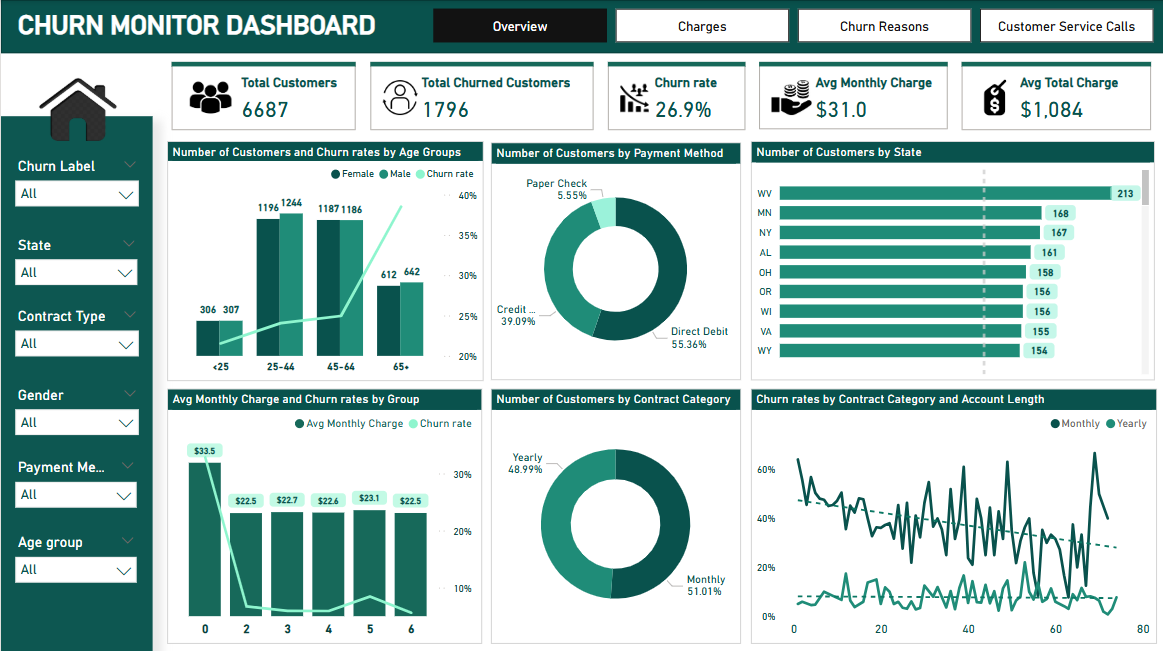

The dashboard page shown, as its layout file describes it:
{"tool":"powerbi","page":{"name":"Age, Payment & Contract","canvas":[1280,720],"ordinal":1},"visuals":[{"type":"shape","box":[0,125.7,165.7,592.9],"z":0},{"type":"textbox","box":[13.5,13.5,258,37.9],"z":1000},{"type":"image","box":[32.3,61.5,103.1,107.7],"z":2000},{"type":"slicer","fields":{"Values":["Databel - Data.Contract Type"]},"box":[5.8,183.2,155.8,85.1],"z":3000},{"type":"slicer","fields":{"Values":["Databel - Data.Gender"]},"box":[4.3,266.9,155.8,76.5],"z":4000},{"type":"slicer","fields":{"Values":["Databel - Data.State"]},"box":[4.3,341.9,154.4,77.9],"z":5000},{"type":"actionButton","box":[13,679.5,47.6,40.4],"z":6000},{"type":"actionButton","box":[60.6,679.5,51.9,40.4],"z":7000},{"type":"lineClusteredColumnComboChart","title":"Number of Customers and Churn rate by Age Groups","fields":{"Category":["Databel - Data.Age (bins)"],"Y2":["_Measures.Churn rate"],"Y":["_Measures.Number of Customers"]},"box":[181,126,507.5,280],"z":8000},{"type":"lineClusteredColumnComboChart","title":"Avg Monthly Charge and Churn rate by Number of Customers in Group","fields":{"Y":["Avg(Databel - Data.Monthly Charge)"],"Category":["Databel - Data.Number of Customers in Group"],"Y2":["_Measures.Churn rate"]},"box":[181,419.4,507.5,280],"z":9000},{"type":"slicer","fields":{"Values":["Databel - Data.Account Length (in months)"]},"box":[1048,9.8,217.7,97.8],"z":10000},{"type":"pieChart","fields":{"Category":["Databel - Data.Payment Method"],"Y":["_Measures.Number of Customers"]},"box":[699.7,127,565.6,277],"z":11000},{"type":"slicer","fields":{"Values":["Databel - Data.Payment Method"]},"box":[5.8,419.8,152.9,80.8],"z":12000},{"type":"lineChart","fields":{"Y":["_Measures.Churn rate"],"Category":["Databel - Data.Account Length (in months)"],"Series":["Databel - Data.Contract Category"]},"box":[699.7,419.8,565.6,279.9],"z":13000},{"type":"card","fields":{"Values":["_Measures.Number of Customers"]},"box":[282.5,13.5,157.7,94.2],"z":14000},{"type":"card","fields":{"Values":["_Measures.Number of churned customers"]},"box":[454.9,14.7,214,92.9],"z":15000},{"type":"card","fields":{"Values":["_Measures.Churn rate"]},"box":[683.6,13.5,140.6,94.2],"z":16000},{"type":"card","fields":{"Values":["Avg(Databel - Data.Monthly Charge)"]},"box":[838.9,12.2,194.4,95.4],"z":17000},{"type":"slicer","fields":{"Values":["Databel - Data.Age (bins)"]},"box":[5.8,493.4,152.9,72.1],"z":17001}]}

Visuals, with their boxes in screenshot pixels (x1, y1, x2, y2), scaled from the page's 1280x720 canvas onto the 1163x651 screenshot:
shape: [x1=0, y1=114, x2=151, y2=650]
textbox: [x1=12, y1=12, x2=247, y2=46]
image: [x1=29, y1=56, x2=123, y2=153]
slicer - Databel - Data.Contract Type: [x1=5, y1=166, x2=147, y2=243]
slicer - Databel - Data.Gender: [x1=4, y1=241, x2=145, y2=310]
slicer - Databel - Data.State: [x1=4, y1=309, x2=144, y2=380]
actionButton: [x1=12, y1=614, x2=55, y2=650]
actionButton: [x1=55, y1=614, x2=102, y2=650]
"Number of Customers and Churn rate by Age Groups" lineClusteredColumnComboChart: [x1=164, y1=114, x2=626, y2=367]
"Avg Monthly Charge and Churn rate by Number of Customers in Group" lineClusteredColumnComboChart: [x1=164, y1=379, x2=626, y2=632]
slicer - Databel - Data.Account Length (in months): [x1=952, y1=9, x2=1150, y2=97]
pieChart - Databel - Data.Payment Method x _Measures.Number of Customers: [x1=636, y1=115, x2=1150, y2=365]
slicer - Databel - Data.Payment Method: [x1=5, y1=380, x2=144, y2=453]
lineChart - _Measures.Churn rate x Databel - Data.Account Length (in months): [x1=636, y1=380, x2=1150, y2=633]
card - _Measures.Number of Customers: [x1=257, y1=12, x2=400, y2=97]
card - _Measures.Number of churned customers: [x1=413, y1=13, x2=608, y2=97]
card - _Measures.Churn rate: [x1=621, y1=12, x2=749, y2=97]
card - Avg(Databel - Data.Monthly Charge): [x1=762, y1=11, x2=939, y2=97]
slicer - Databel - Data.Age (bins): [x1=5, y1=446, x2=144, y2=511]
